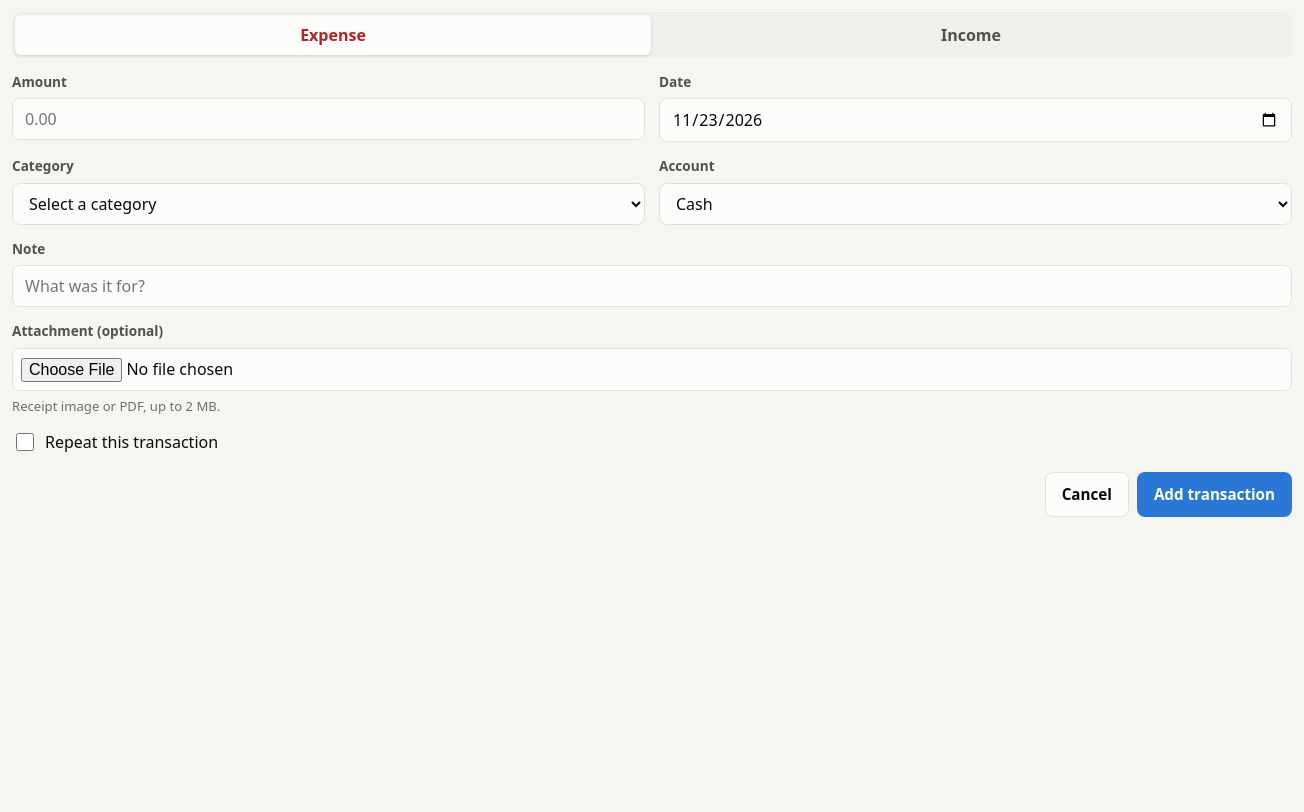
it: TransactionForm (add) › shows field errors returned by the API
Type "10" into the number field labelled "Amount" at x=328, y=119, box [12,98,645,140]
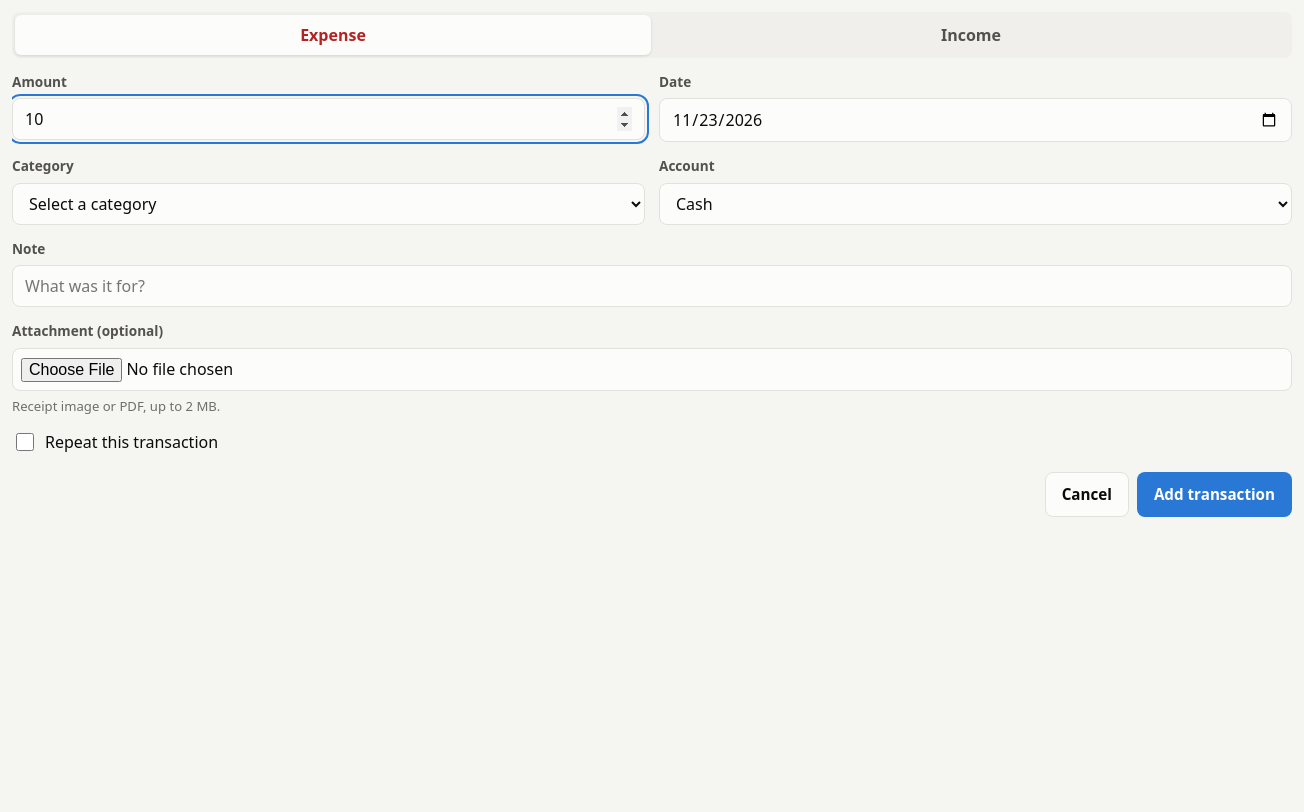
Select "🍔 Food" in the dropdown labelled "Category" at x=328, y=204, box [12,183,645,225]
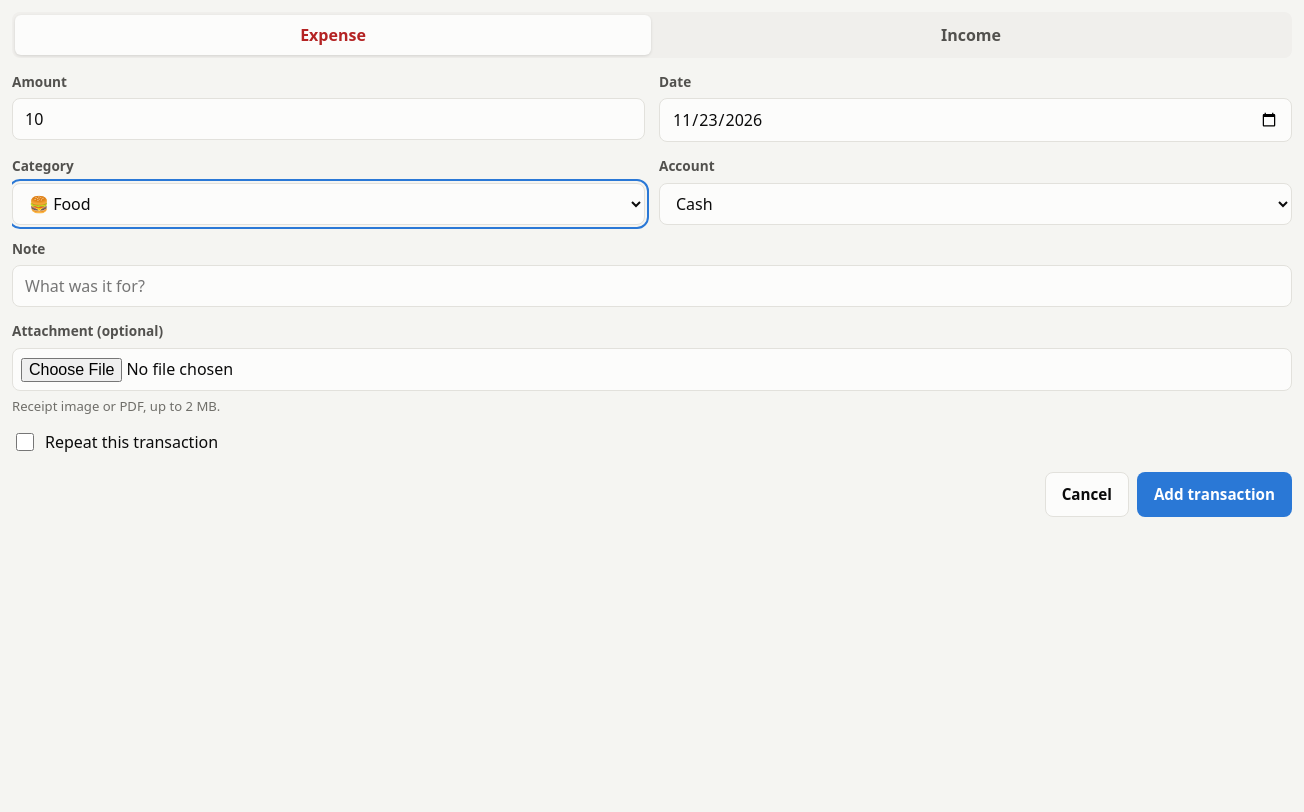
Click the button "Add transaction" at x=1214, y=495, box [1137,472,1292,517]
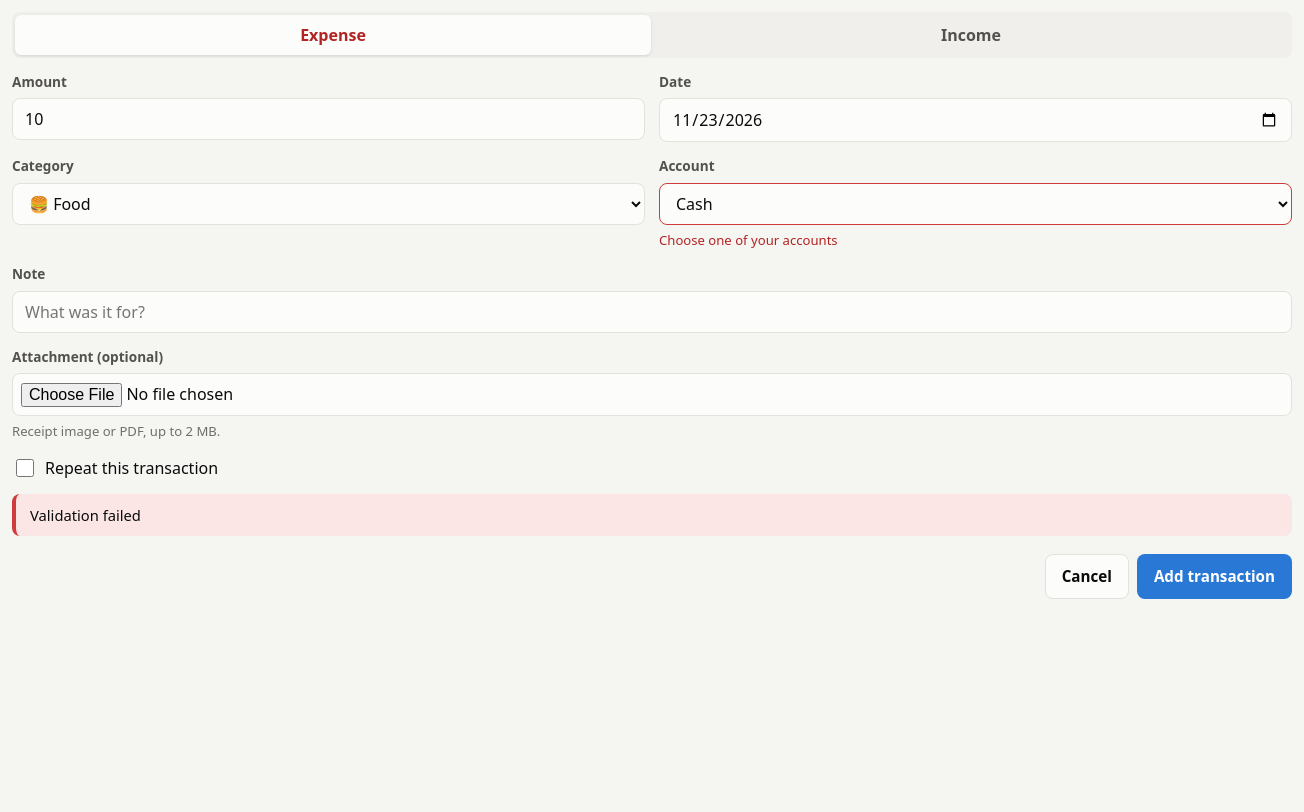
Now the text "Choose one of your accounts" is shown, box [659,231,838,249]
Now the message reads "Validation failed", box [30,505,141,525]
